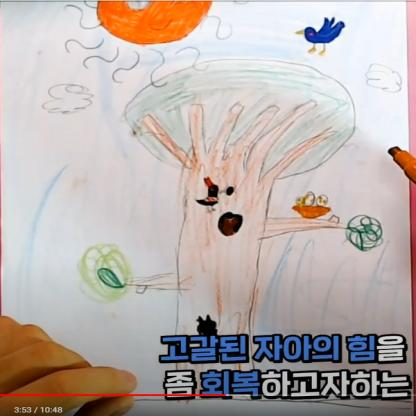branch_cut: (141, 102, 335, 188)
crown_mushroom: (122, 60, 354, 178)
